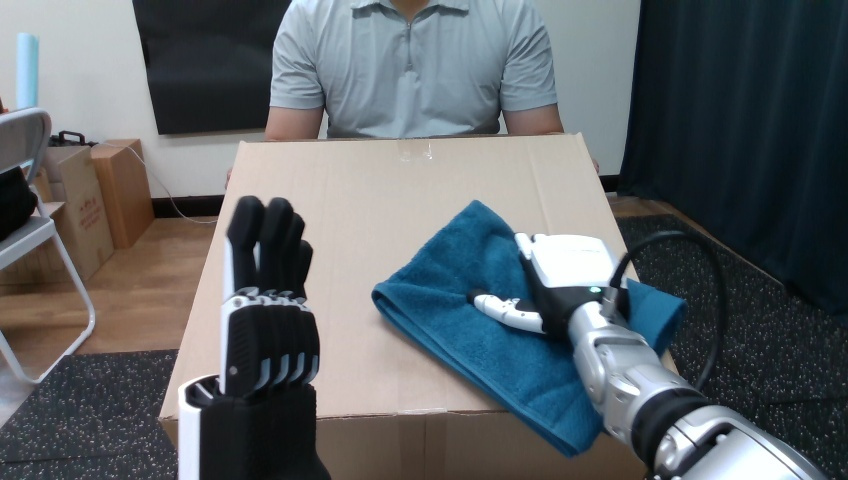left robot hand: (470, 250, 821, 478), (178, 196, 329, 479)
